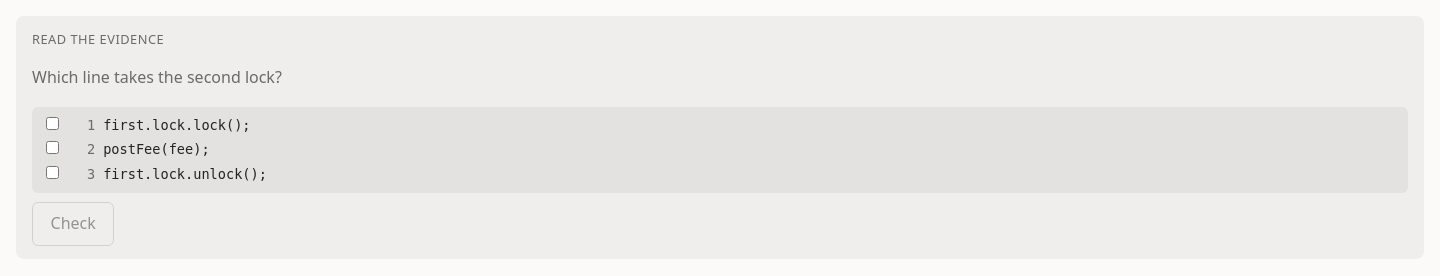
it: keeps Check disabled until a line is selected
The width and height of the screenshot is (1440, 276).
Expected: the button "Check" is disabled, top-left (32, 202), bottom-right (114, 246)
Click the checkbox named "Line 2: postFee(fee);" at (52, 148), box top-left (46, 141), bottom-right (59, 154)
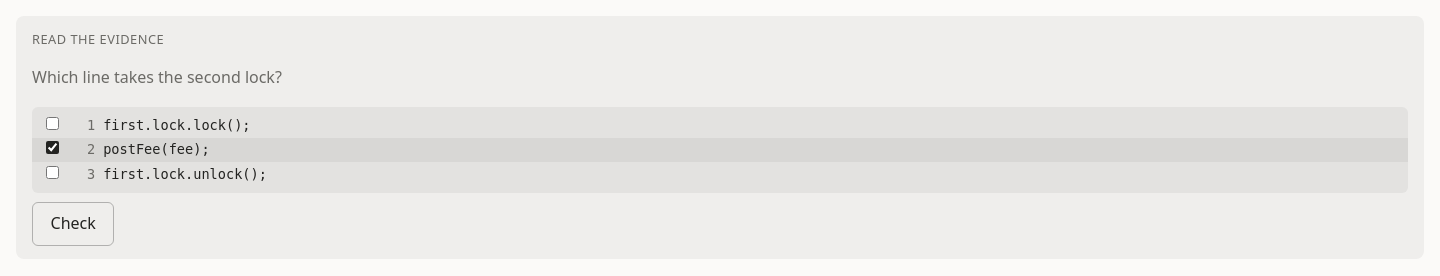
Now the button "Check" is enabled, box top-left (32, 202), bottom-right (114, 246)
